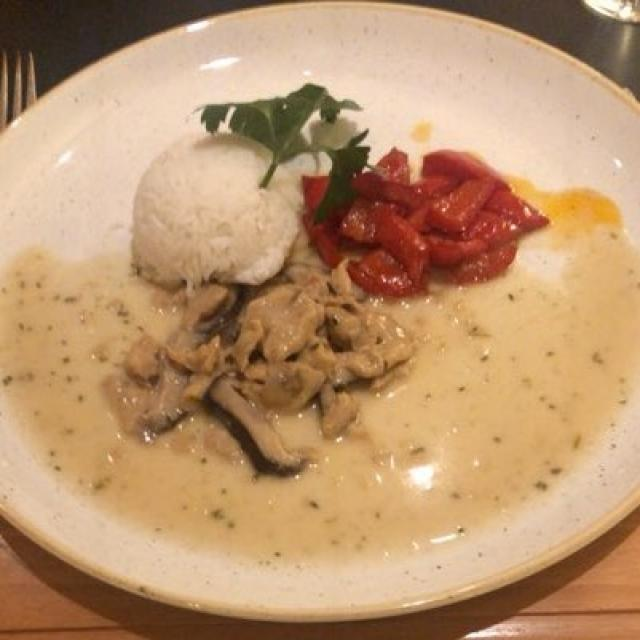bell-pepper: (304, 140, 557, 280)
rice: (131, 132, 301, 286)
sauce: (5, 243, 635, 554)
